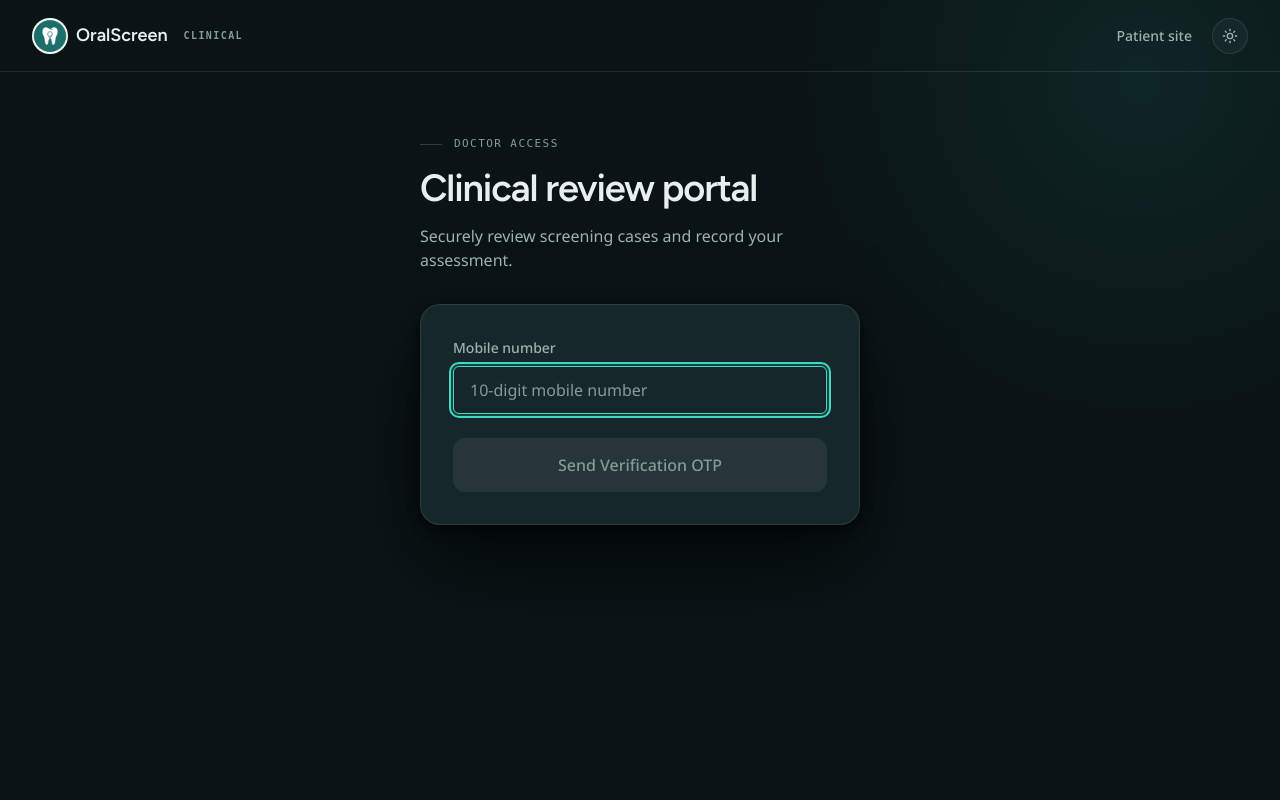
Scenario: the phone step › reports a send failure as an alert on the verification step
The image size is (1280, 800).
Type "9876543210" into the field labelled "Mobile number". click: coordinates (640, 390)
box: [453,366,827,414]
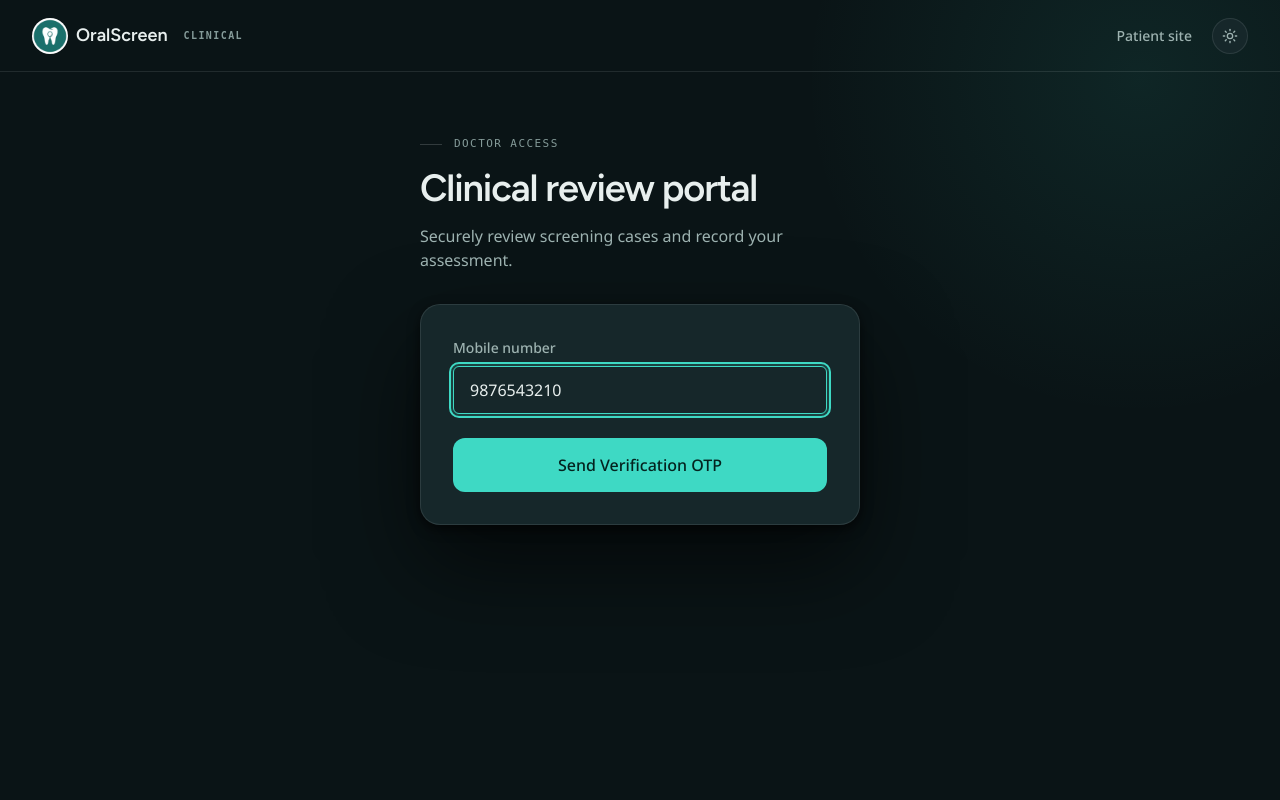
Click the button "Send Verification OTP". click: coordinates (640, 465)
box: [453,438,827,492]
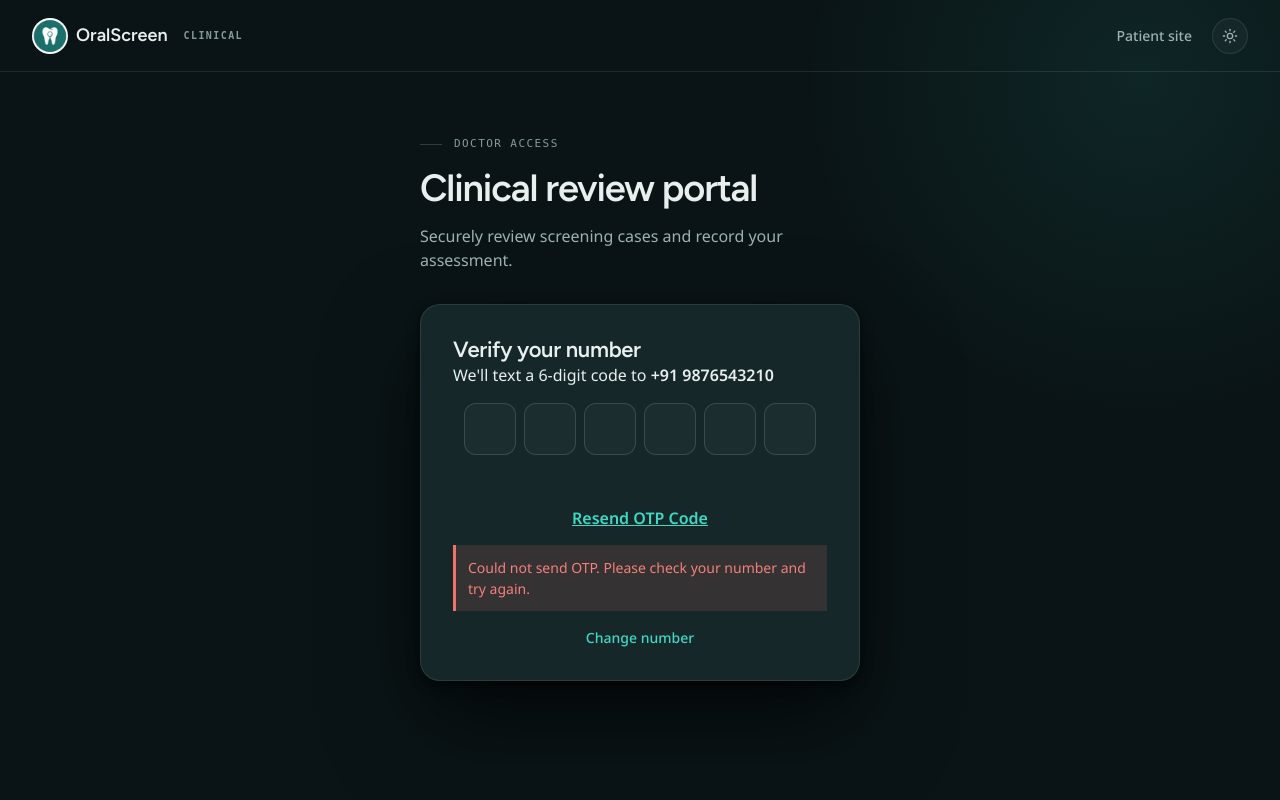
expect the message reads "Could not send OTP. Please check your number and try again.": met, box [468,558,806,598]
expect the button "Resend OTP Code" is enabled: met, box [572,507,708,529]
